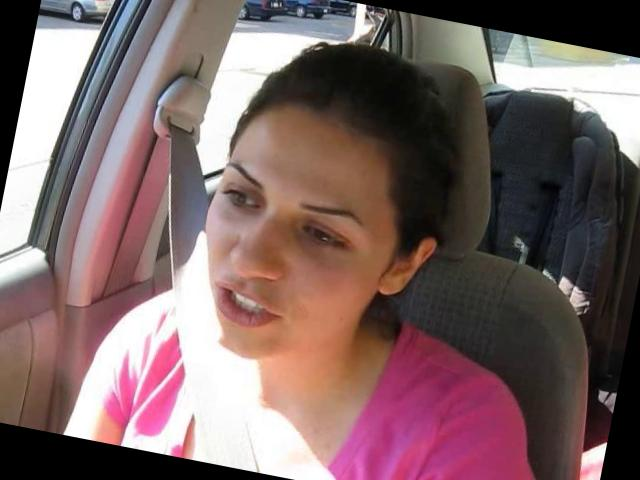eye_open: (288, 214, 356, 257), (213, 178, 266, 220)
face: (173, 155, 386, 381)
